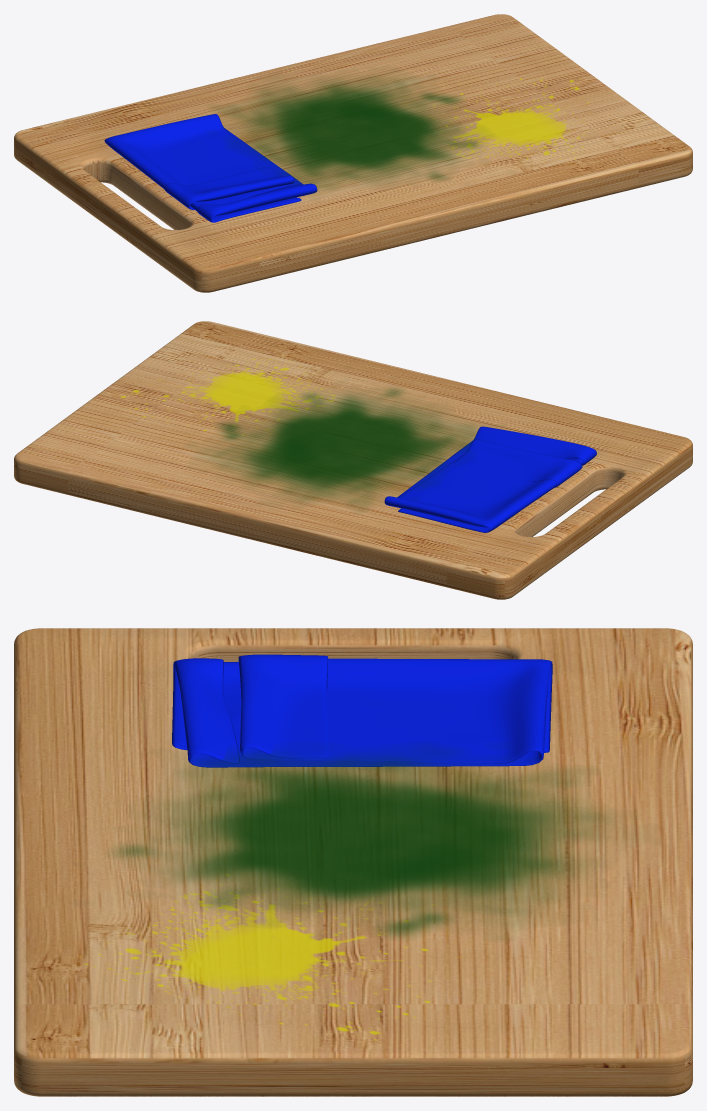
Rendered from Cutting_Board.glb.
3 renders of one model, top to bottom at view 1: azimuth 30°, elevation 25°; view 2: azimuth 150°, elevation 25°; view 3: azimuth 270°, elevation 25°, orthographic. The views are drawn at different scales.
Parts seen in each view (by area): view 1: Circle.001, Plane__10_.001, Tower_Material.001_0, Plane__10_.002; view 2: Circle.001, Plane__10_.001, Tower_Material.001_0, Plane__10_.002; view 3: Circle.001, Plane__10_.001, Tower_Material.001_0, Plane__10_.002.
Boxes of the visible parts, x1,y1,x2,y2 form: Circle.001: (14,14,692,292); Plane__10_.001: (221,77,479,188); Tower_Material.001_0: (104,114,317,222); Plane__10_.002: (430,77,590,162); Circle.001: (14,321,692,599); Plane__10_.001: (211,388,477,506); Tower_Material.001_0: (384,426,596,532); Plane__10_.002: (114,355,335,434); Circle.001: (14,628,692,1096); Plane__10_.001: (116,752,606,937); Tower_Material.001_0: (172,654,552,767); Plane__10_.002: (78,874,473,1040).
Bounding box in the file's own units: 0.5376 × 0.0379 × 0.3584.
Materials: 4 (3 with a texture image).
